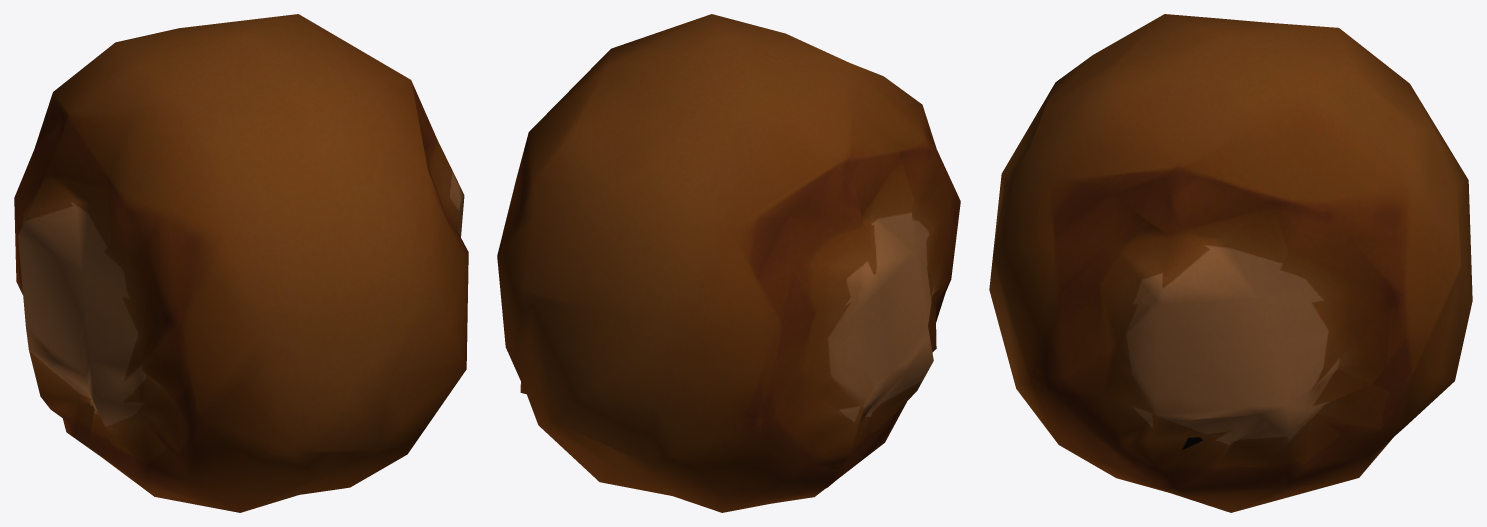
Rendered from M_Earth_Bullet.obj.
3 views of the same model, side by side, from view 1: azimuth 30°, elevation 25°; view 2: azimuth 150°, elevation 25°; view 3: azimuth 270°, elevation 25° (orthographic).
Parts seen in each view (by area): view 1: tripo_node_96ac6940-7165-4a84-a2f0-b1e20d21375d; view 2: tripo_node_96ac6940-7165-4a84-a2f0-b1e20d21375d; view 3: tripo_node_96ac6940-7165-4a84-a2f0-b1e20d21375d.
Part boxes in pixels (x1,y1,x2,y2): tripo_node_96ac6940-7165-4a84-a2f0-b1e20d21375d: (14, 14, 468, 512); tripo_node_96ac6940-7165-4a84-a2f0-b1e20d21375d: (497, 14, 960, 512); tripo_node_96ac6940-7165-4a84-a2f0-b1e20d21375d: (989, 14, 1472, 512).
Bounding box in the file's own units: 0.8773 × 0.9782 × 0.9782.
Materials: 1 (1 with a texture image).
